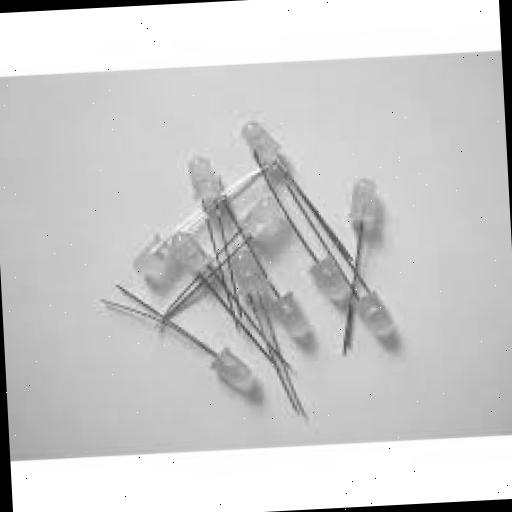LED: (72, 256, 276, 432), (302, 154, 394, 368), (170, 146, 256, 272), (224, 114, 322, 214), (344, 261, 418, 347), (252, 258, 318, 352), (220, 184, 303, 252), (290, 248, 366, 320), (120, 222, 181, 295), (168, 216, 224, 278)
